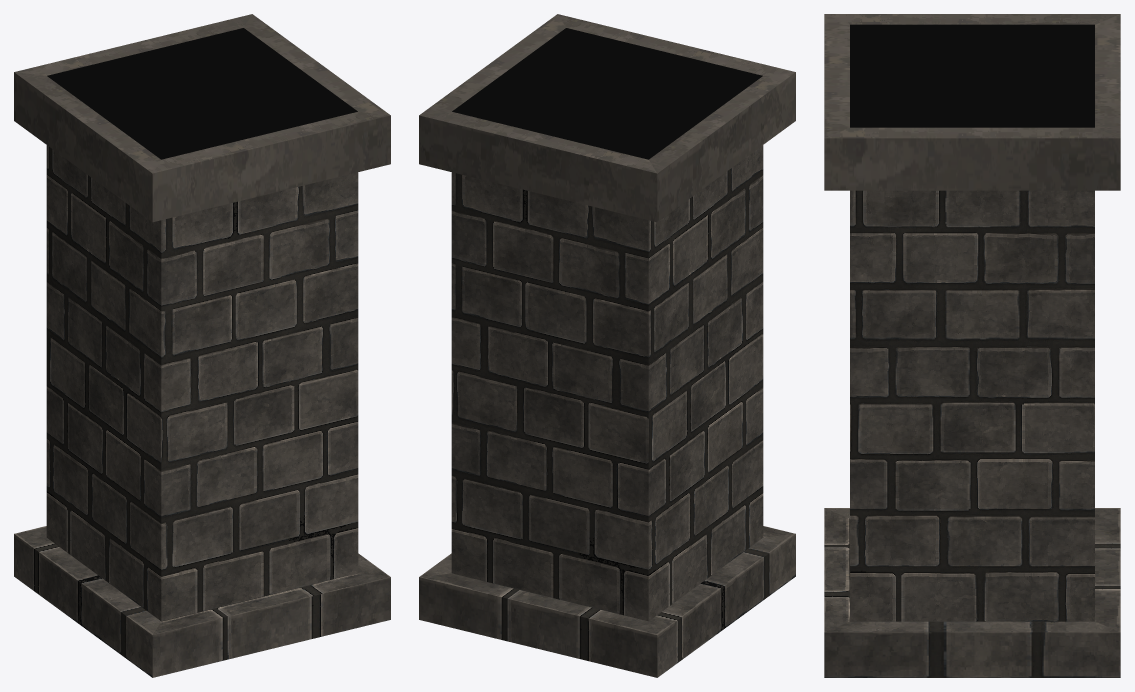
File: BrickPillar01.fbx
The picture shows the model from 3 angles, left to right: view 1: azimuth 30°, elevation 25°; view 2: azimuth 150°, elevation 25°; view 3: azimuth 270°, elevation 25°; orthographic projection. The views are drawn at different scales.
Visible parts, largest first — view 1: Cylinder; view 2: Cylinder; view 3: Cylinder.
Part boxes in pixels (<box>): Cylinder: <box>14,14,390,677</box>; Cylinder: <box>419,14,795,677</box>; Cylinder: <box>824,14,1120,677</box>.
Bounding box in the file's own units: 0.9793 × 1.98 × 0.9862.
Materials: 1 (1 with a texture image).
